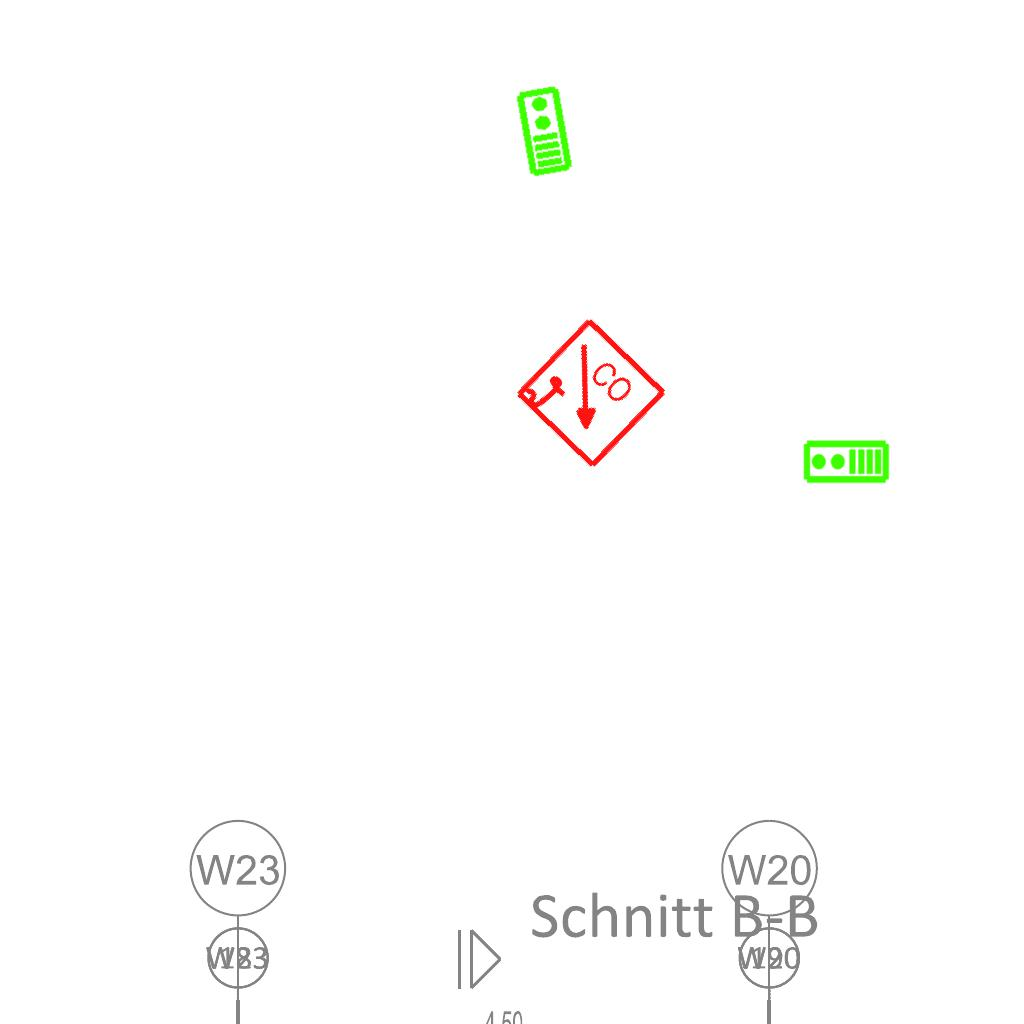Gegensprechanlage_mit_Video: (512, 83, 575, 179), (802, 439, 890, 486)
ROA_Rauchmelder_optisch_mit_Signalgeber_(Sockelsirene): (510, 314, 671, 475)
